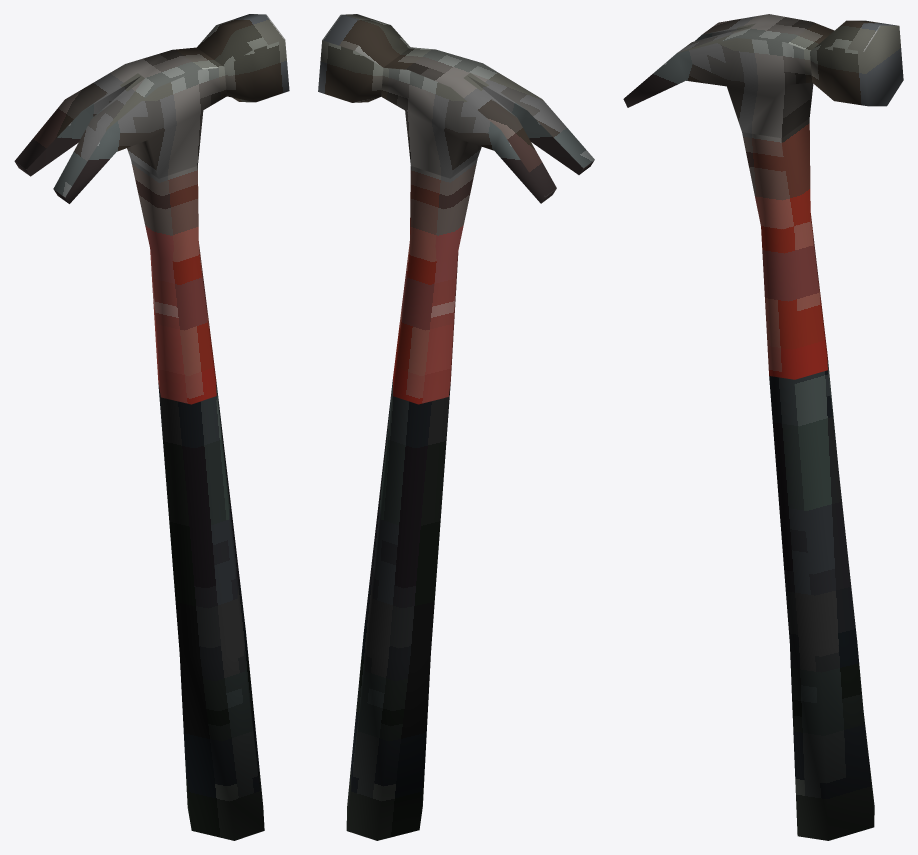
The model's file is Hammer.fbx.
3 views of the same model, side by side, from view 1: azimuth 30°, elevation 25°; view 2: azimuth 150°, elevation 25°; view 3: azimuth 330°, elevation 25° (orthographic).
Visible parts, largest first — view 1: hammer; view 2: hammer; view 3: hammer.
Boxes of the visible parts, bbox=[...] form: hammer: bbox=[14, 14, 289, 840]; hammer: bbox=[318, 14, 594, 840]; hammer: bbox=[623, 14, 903, 840].
Size of the model in its own units: 13.5 by 43.83 by 5.01.
1 material, 1 textured.
